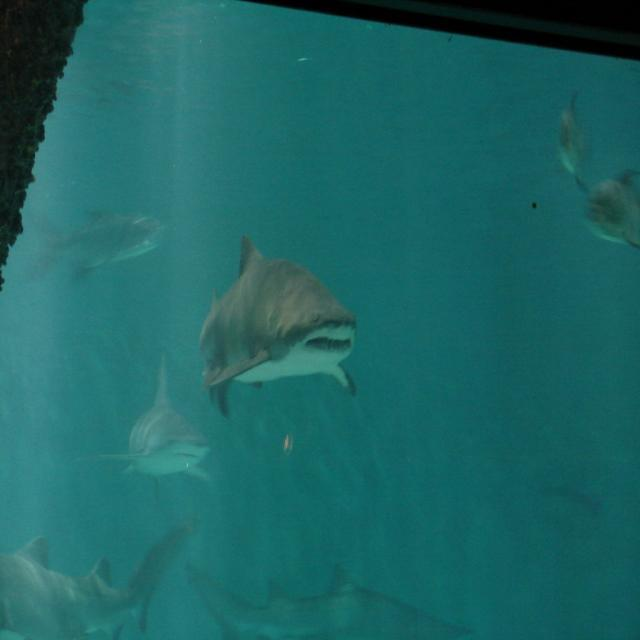Shark: (194, 236, 350, 413), (191, 558, 471, 636), (0, 534, 186, 640), (95, 367, 213, 488), (95, 355, 209, 480), (31, 206, 161, 304), (574, 172, 640, 256)
